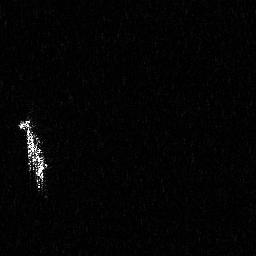ship: (14, 113, 54, 204)
